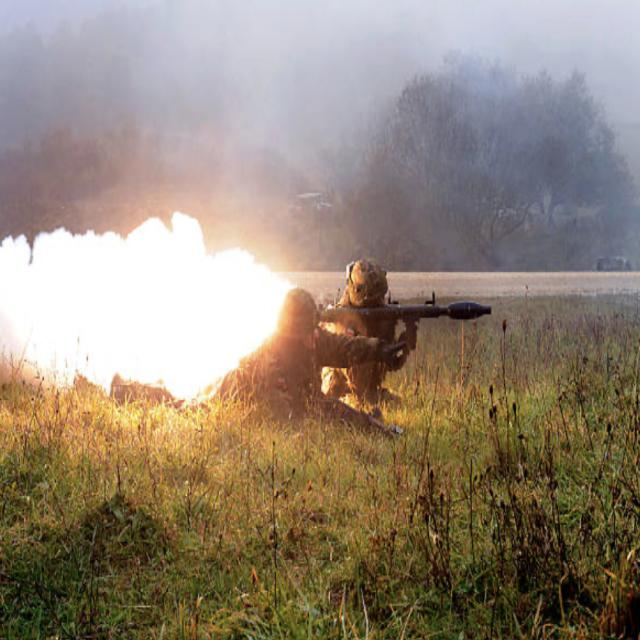bazooka: (308, 288, 512, 343)
